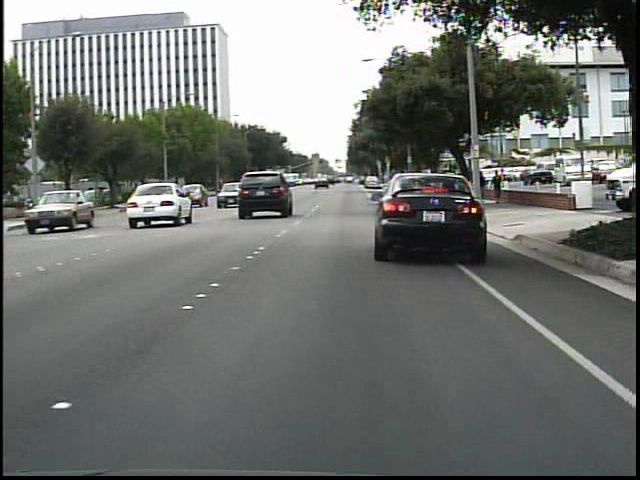person: (489, 169, 506, 207), (475, 170, 489, 202)
